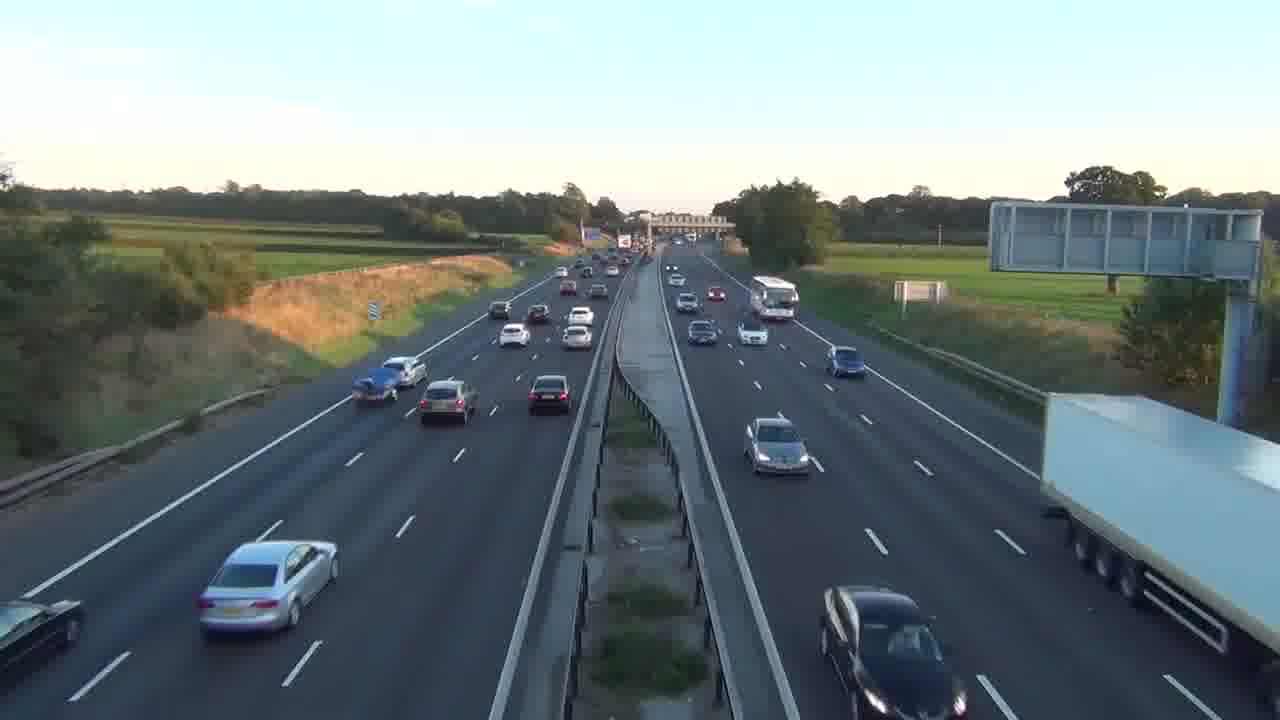car: (818, 584, 957, 718), (196, 539, 340, 637), (0, 597, 85, 670), (743, 414, 822, 476), (417, 378, 480, 424), (527, 374, 573, 415), (829, 345, 868, 377), (687, 318, 722, 347), (498, 322, 530, 347)
truck: (1038, 393, 1279, 670)
